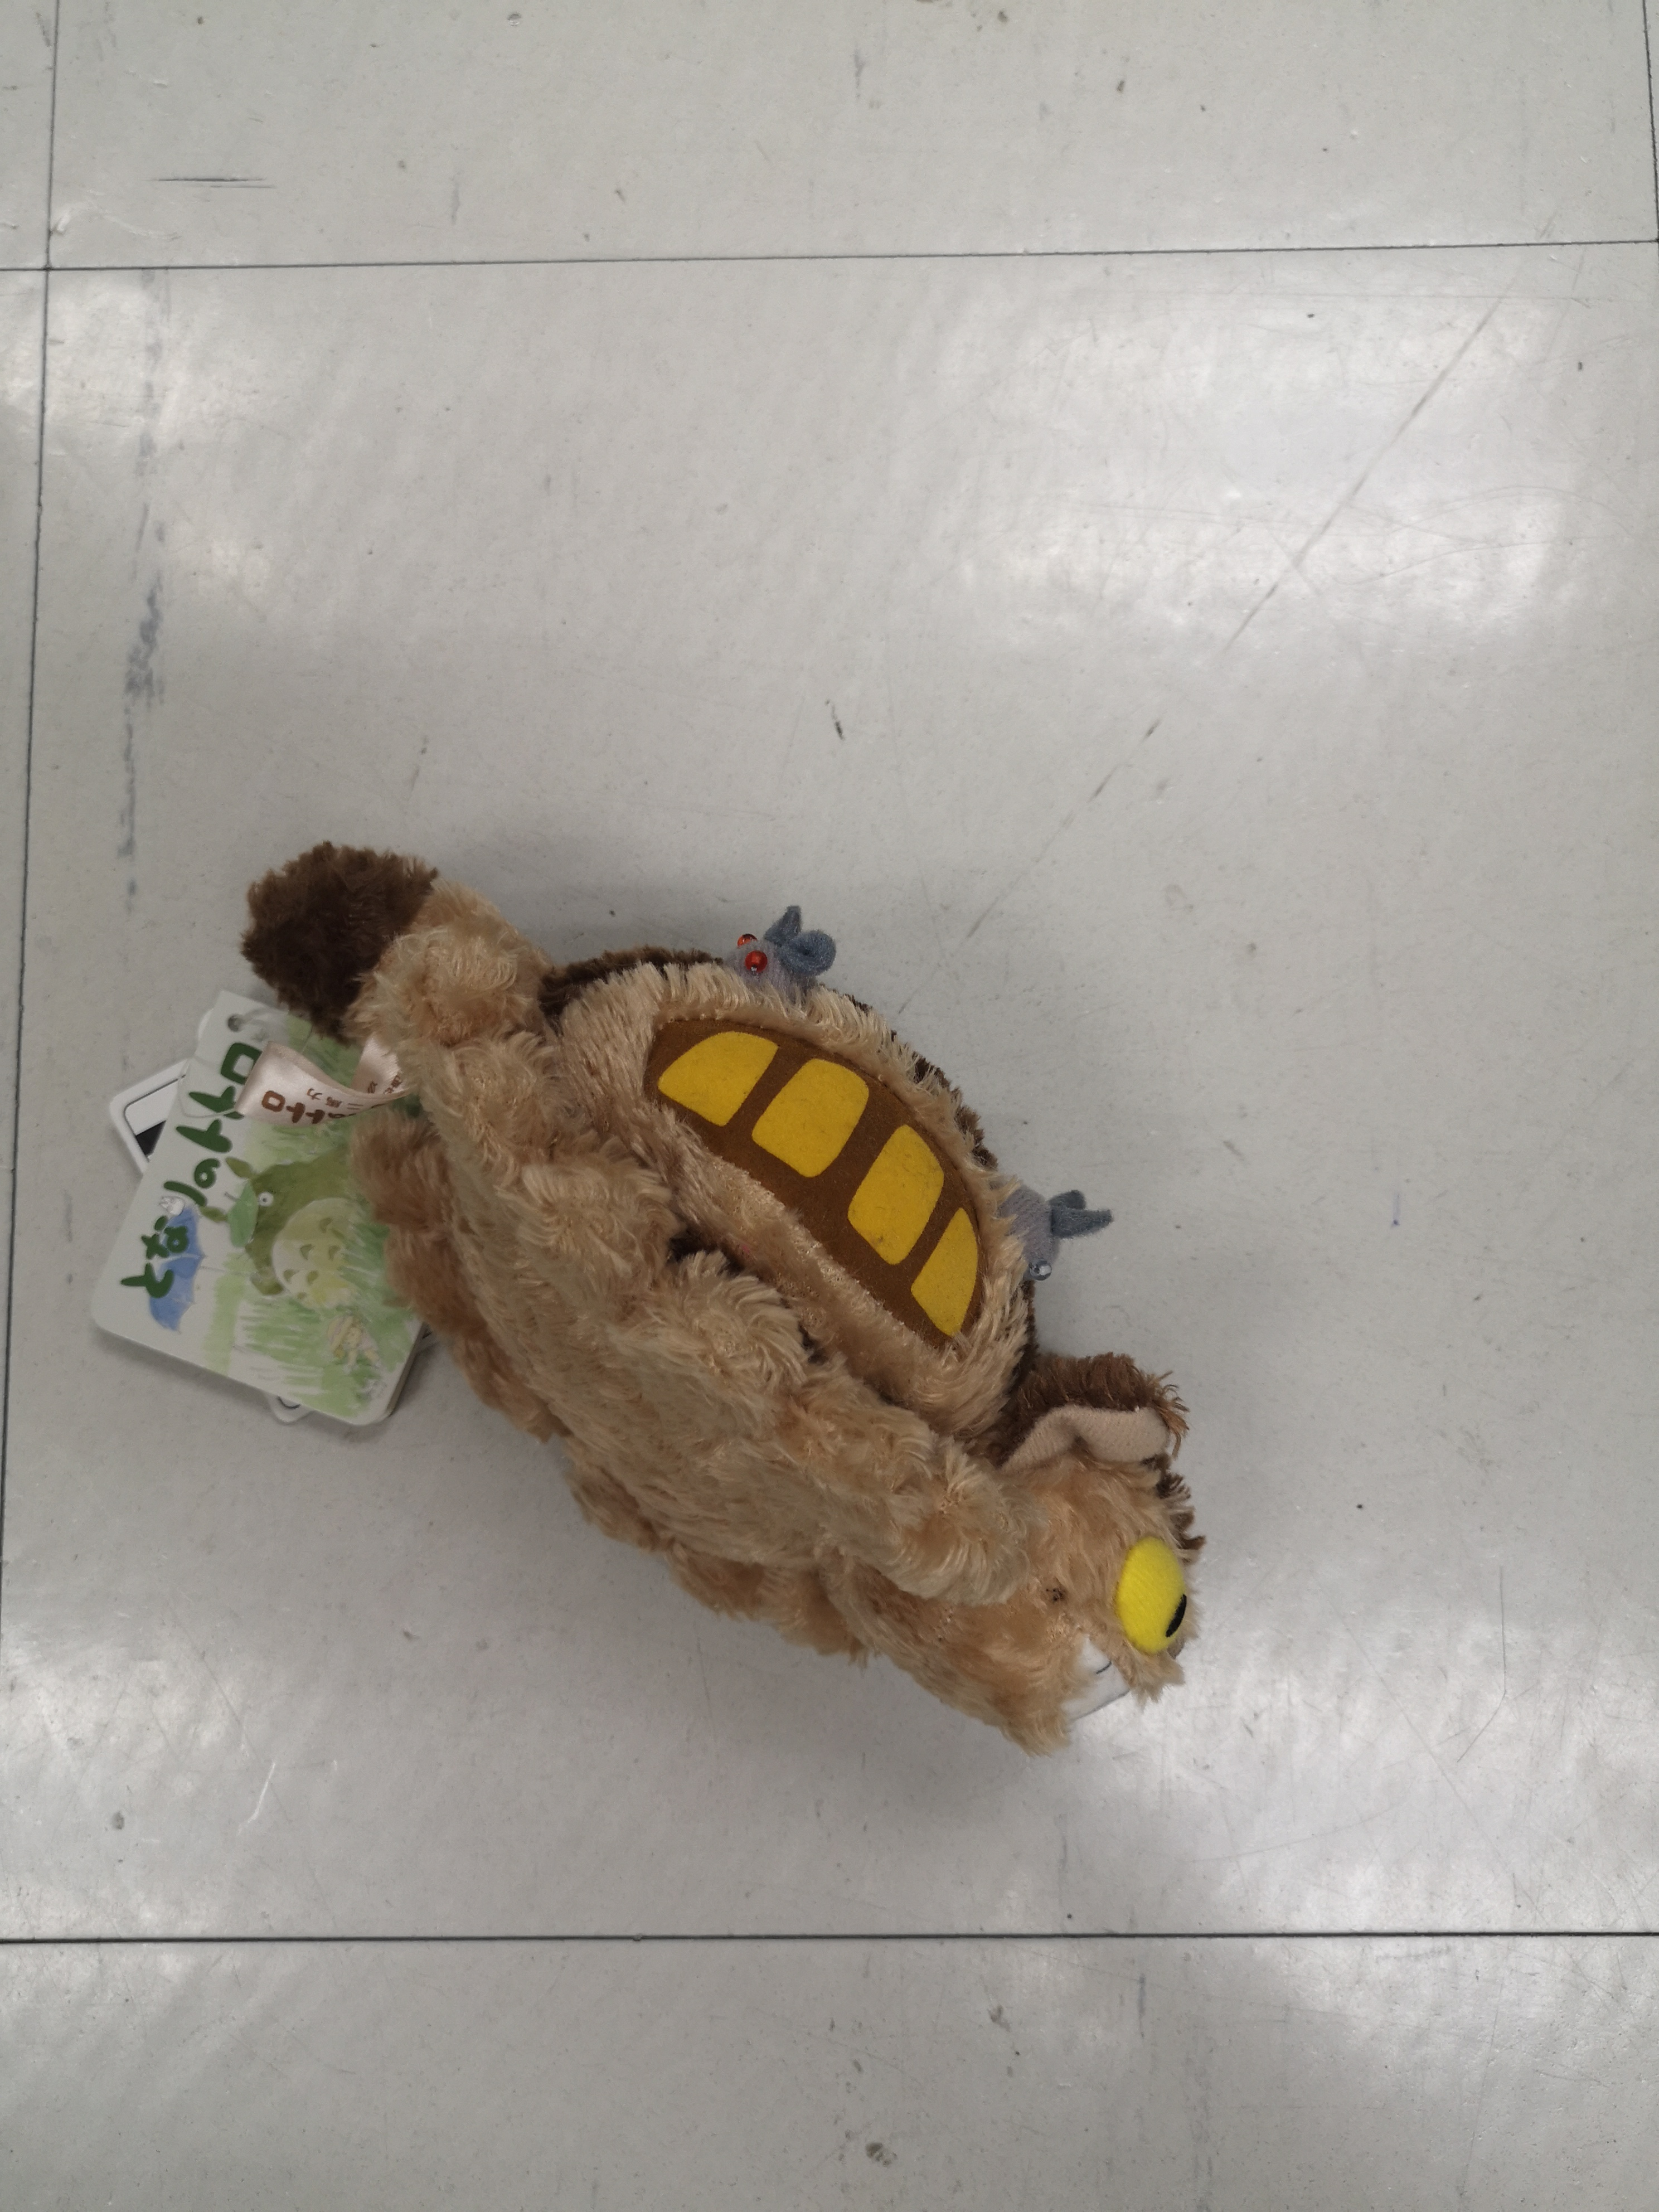nekobus: (242, 796, 1220, 1780)
